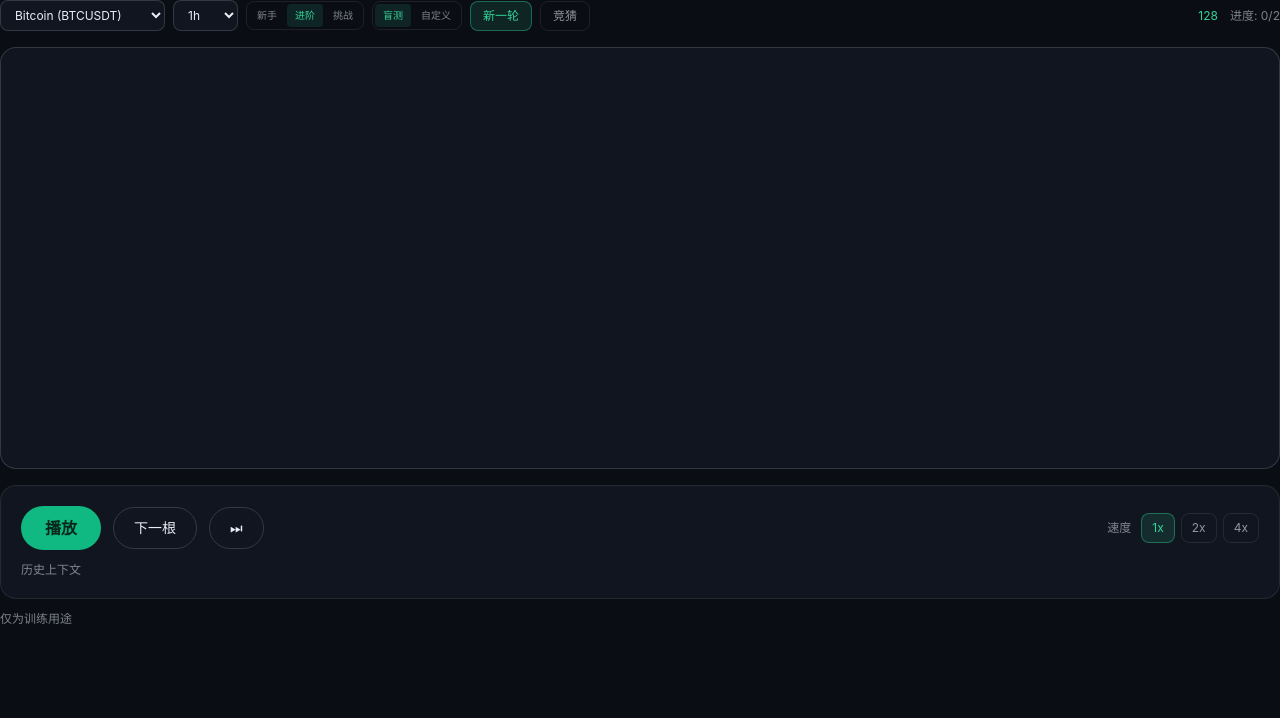
Test: ReplayTrainer 竞猜模式与战绩 › 答错时给出下跌反馈并清零连胜
This screenshot has width=1280, height=718.
expect the text "128 进度: 0/2" is shown: met, box [1198,8,1279,24]
Step 1. Click the button "竞猜" → click(565, 16), box [540,0,590,30]
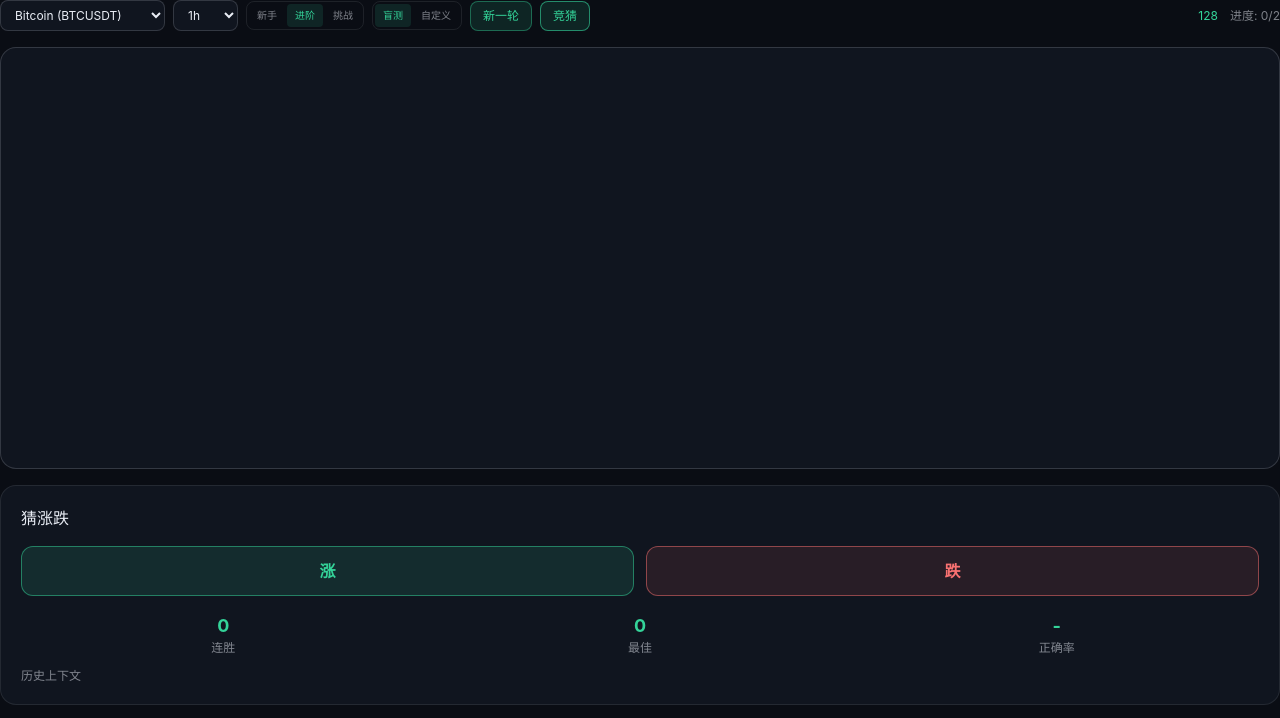
Step 2. Click the button "涨" → click(328, 571), box [21,546,634,596]
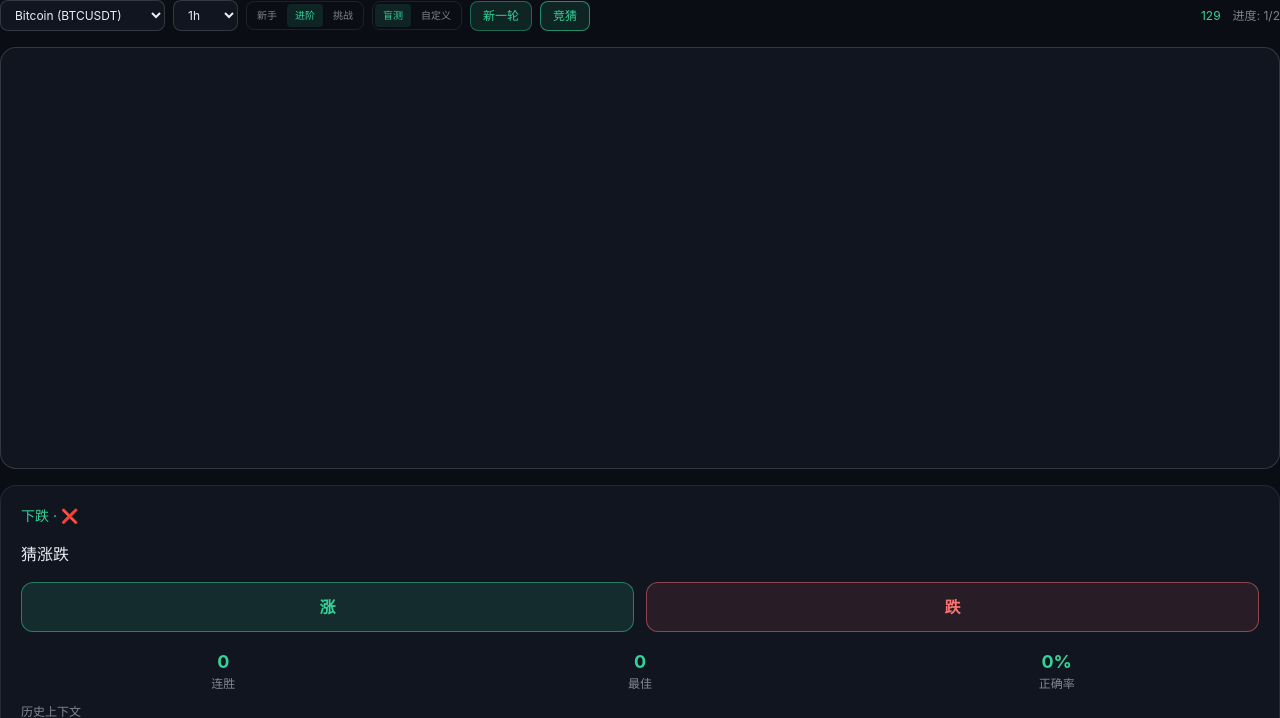
expect the text "下跌 · ❌" is shown: met, box [21,507,78,524]
